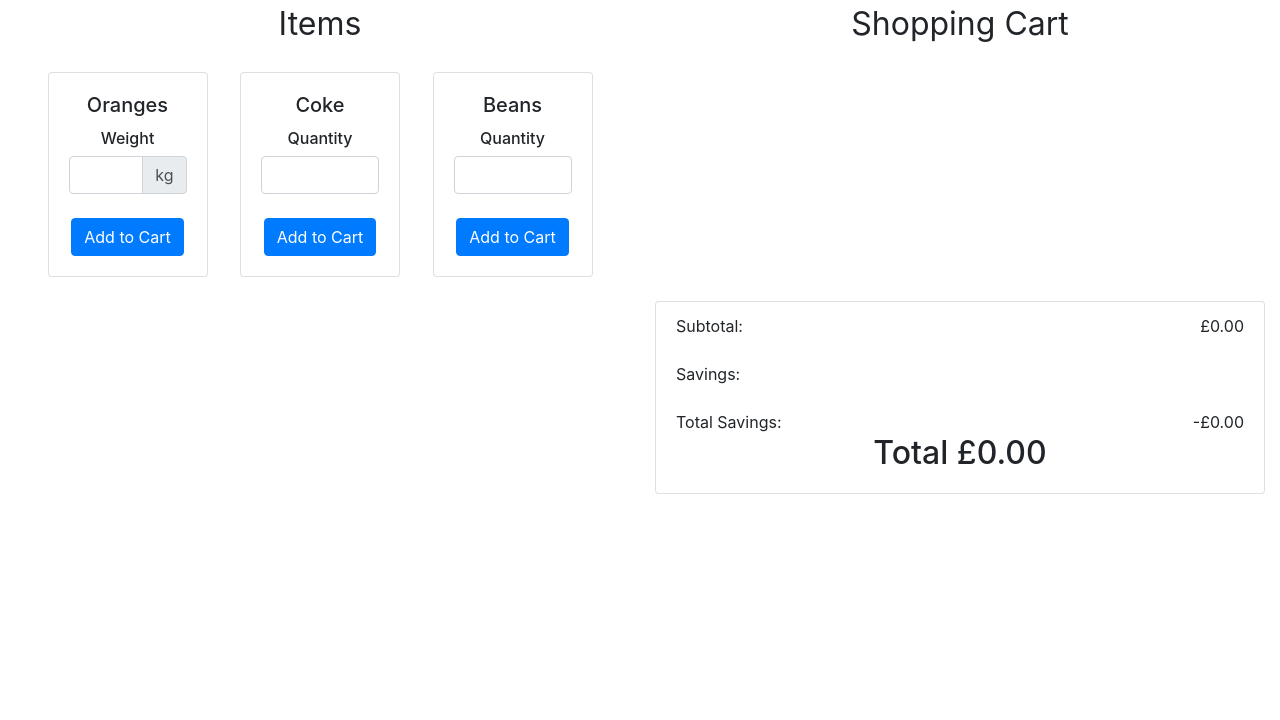
Shopping Cart › should be able to add Coke to cart
The width and height of the screenshot is (1280, 720).
Type "1" into the field named "Weight" below "Coke".
click(320, 175); type("1")  # box [261,156,379,194]
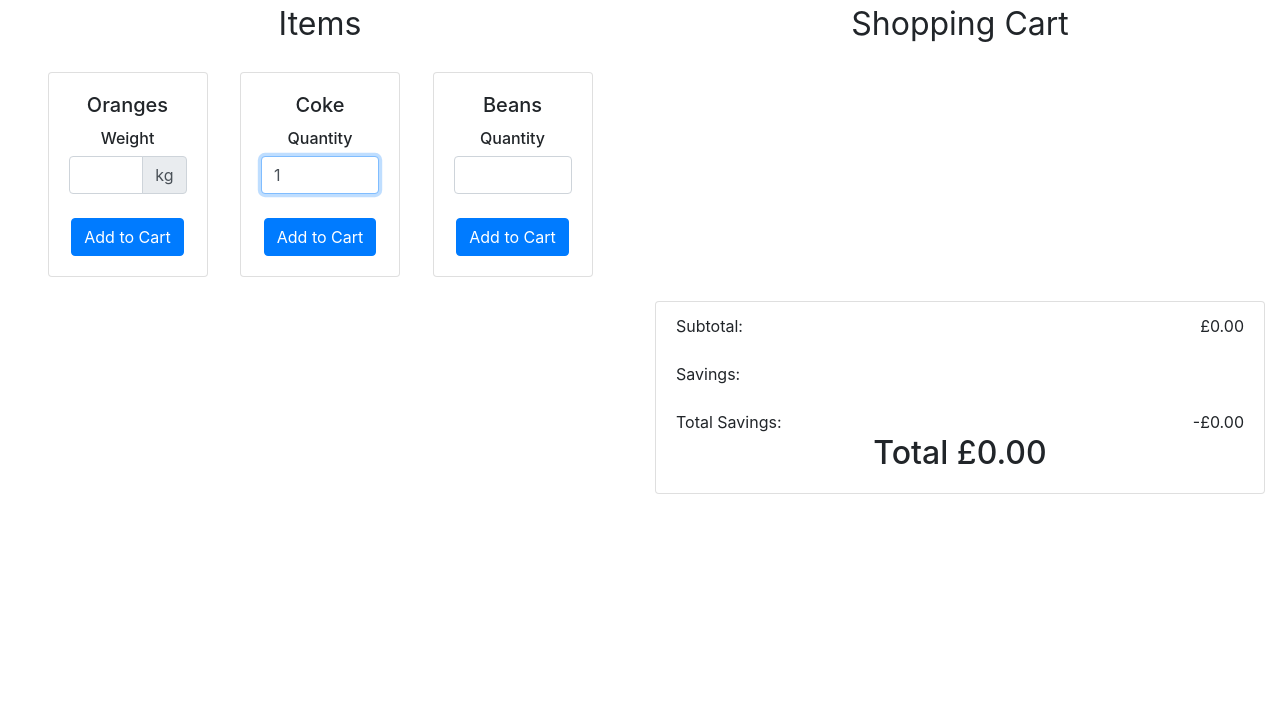
Click the button "Add to Cart" below "Coke".
click(321, 237)  # box [264,218,377,256]
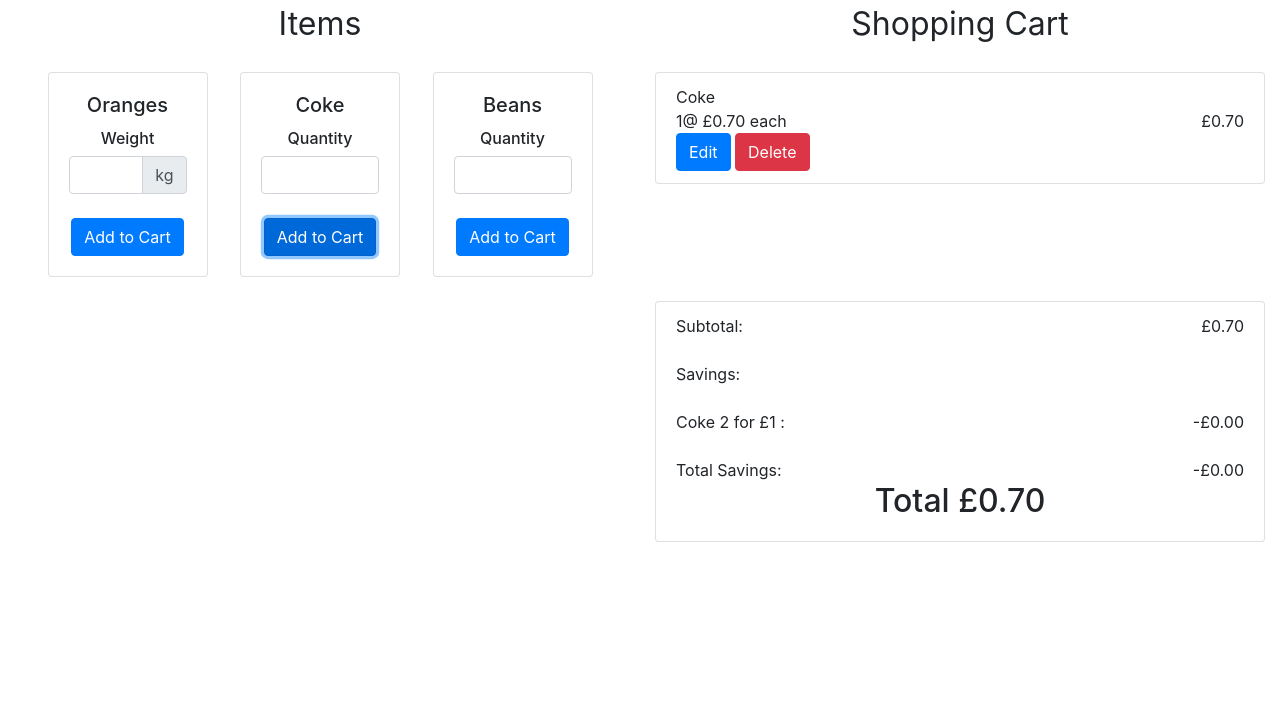
Expected: the element with class "list-group-item" shows "Coke", [676,87,715,107]
Expected: the text with class "list-group-item" reads "1@ £0.70 each", [676,109,787,133]
